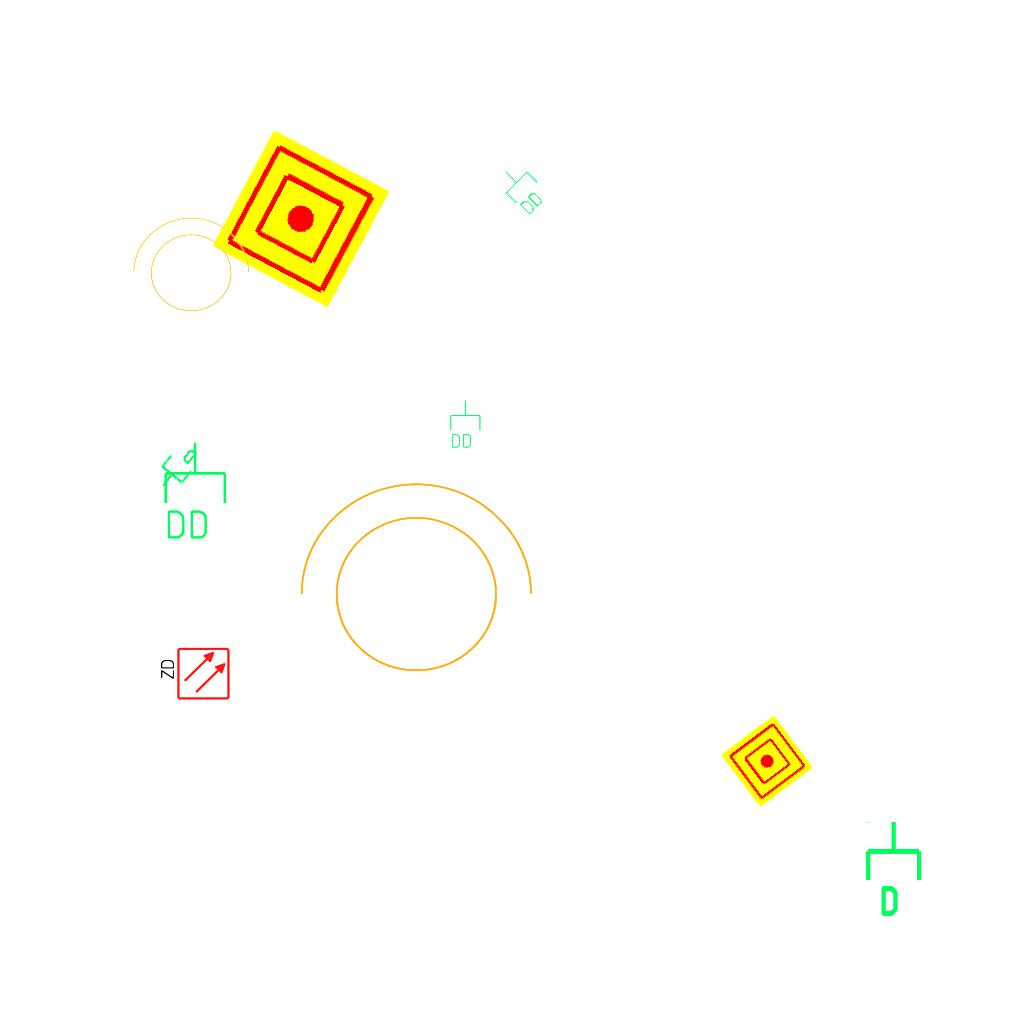Datenanschluss_einfach: (861, 819, 930, 919), (148, 436, 206, 498)
Datenanschluss_zweifach: (160, 440, 229, 543), (492, 158, 553, 220), (448, 399, 482, 450)
NAM-Nichtautomatischer_Melder: (211, 129, 391, 309), (720, 714, 814, 808)
Scheinwerfer_fuer_Alarmbeleuchtung: (278, 472, 542, 697), (122, 212, 254, 324)
ZD_Melder_in_Zwischendecke_mit_Revisionsoeffnung_mind_40_x_40_cm: (157, 646, 231, 703)
